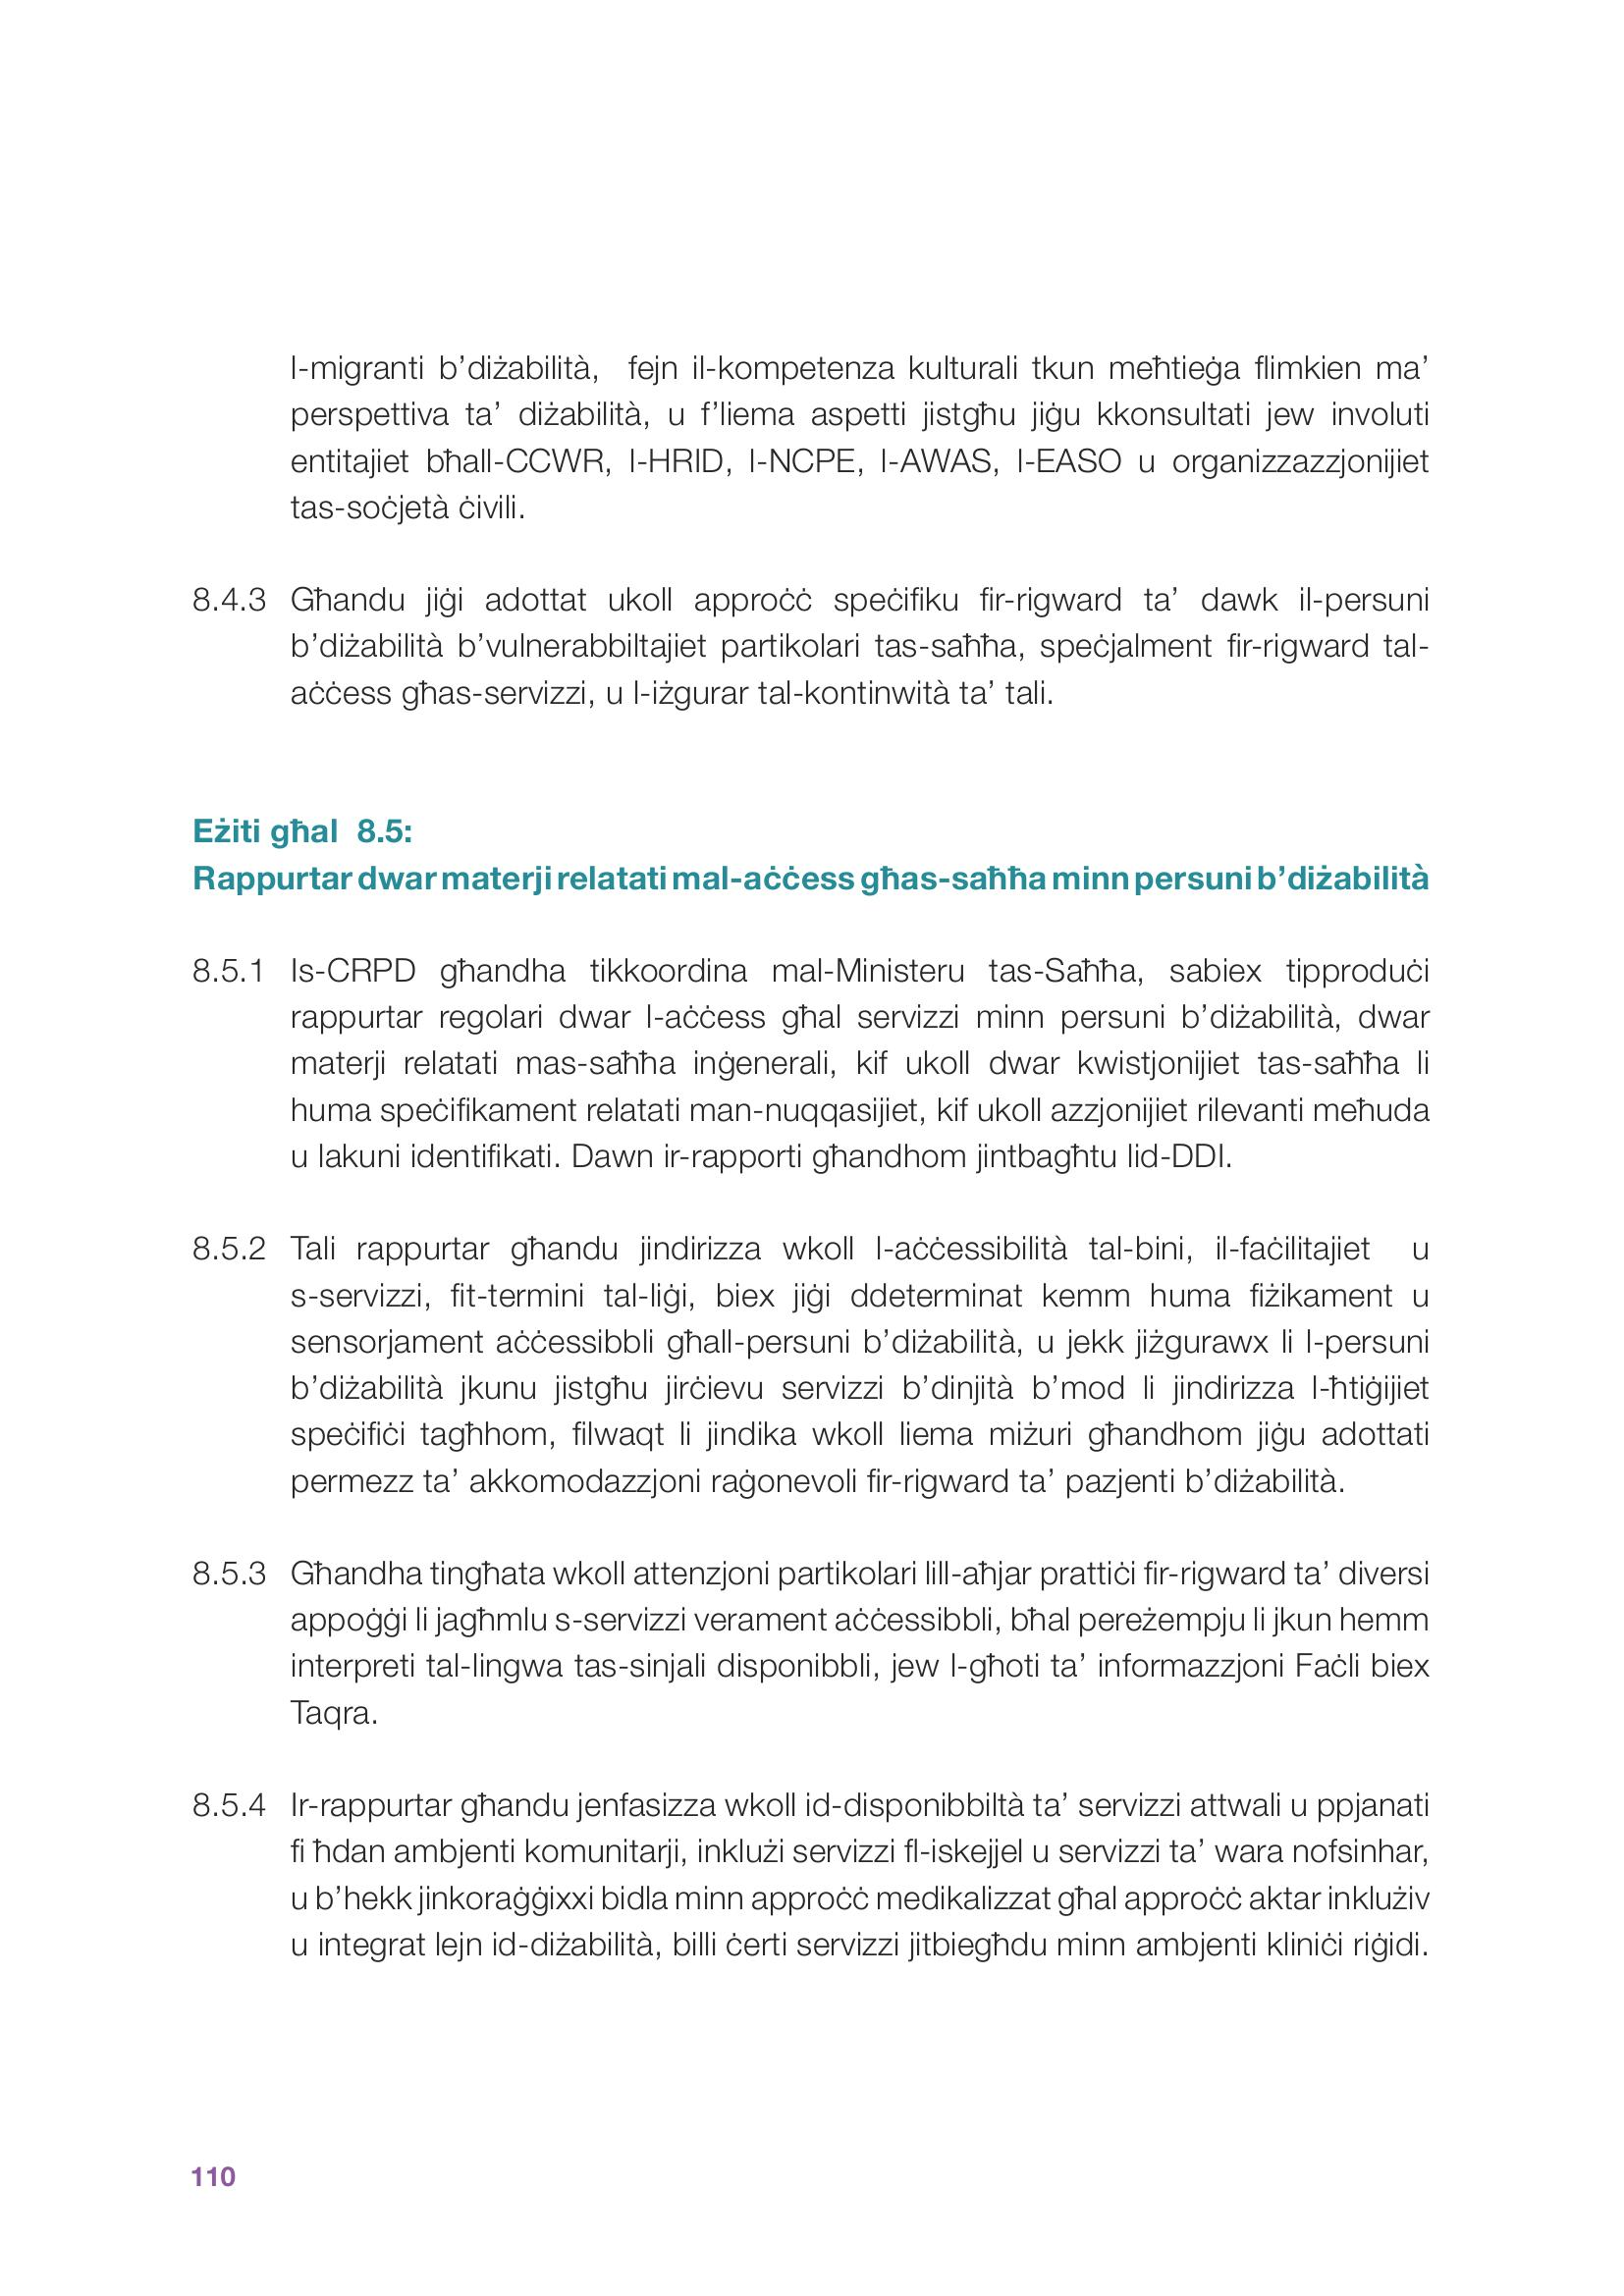text: (172, 323, 1459, 2013)
